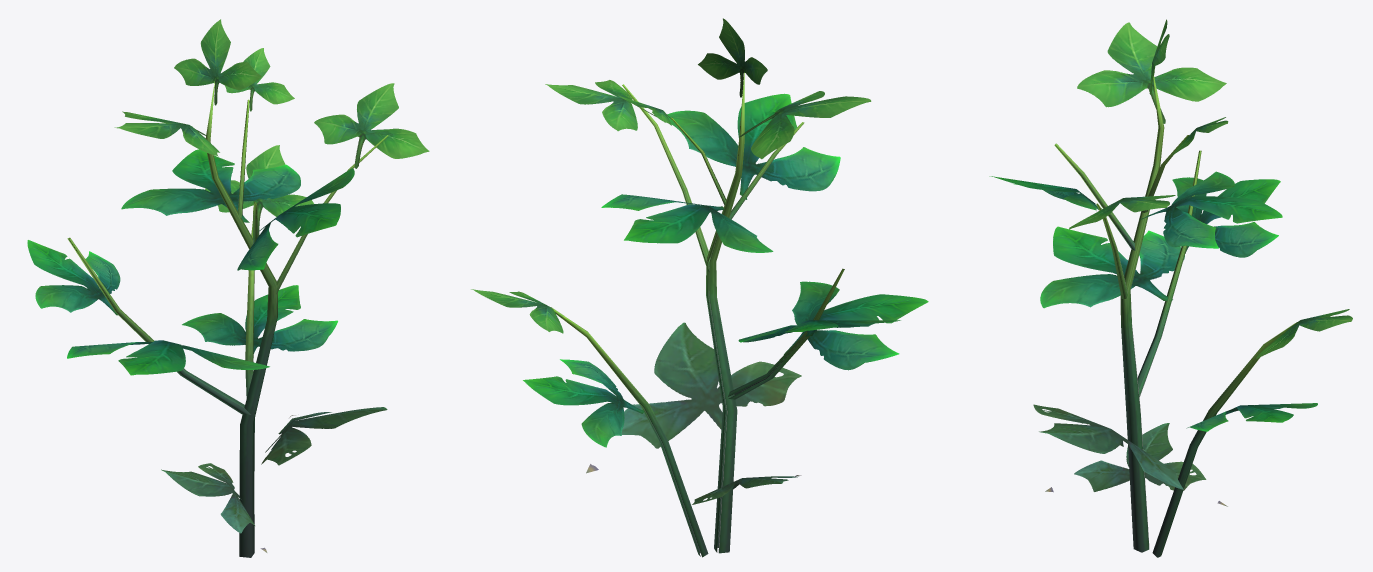
Rendered from Scene_guanmu_001.FBX.
3 renders of one model, left to right at view 1: azimuth 30°, elevation 25°; view 2: azimuth 150°, elevation 25°; view 3: azimuth 270°, elevation 25°, orthographic. The views are drawn at different scales.
Visible parts, largest first — view 1: Scene_guanmu_001; view 2: Scene_guanmu_001; view 3: Scene_guanmu_001.
Boxes of the visible parts, left/top/right/bottom form: Scene_guanmu_001: left=27, top=19, right=429, bottom=557; Scene_guanmu_001: left=471, top=18, right=928, bottom=557; Scene_guanmu_001: left=989, top=19, right=1352, bottom=557.
Bounding box in the file's own units: 97.31 × 138 × 90.54.
